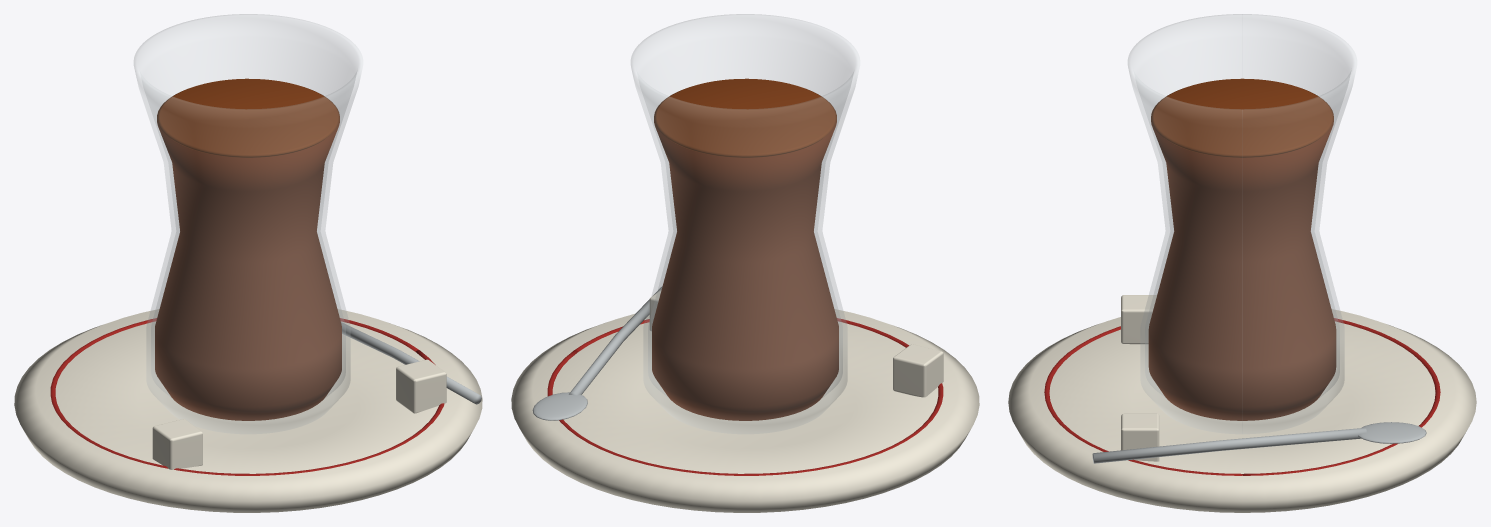
The model's file is ince_belli_tea.glb.
3 renders of one model, left to right at view 1: azimuth 30°, elevation 25°; view 2: azimuth 150°, elevation 25°; view 3: azimuth 270°, elevation 25°, orthographic.
Visible parts, largest first — view 1: TeaGlass, TeaSaucer, TeaLiquid, TeaMeniscus, SaucerRedLine, SugarCube.001, SugarCube, TeaspoonHandle; view 2: TeaGlass, TeaSaucer, TeaLiquid, TeaMeniscus, SugarCube, SaucerRedLine, TeaspoonHandle, TeaspoonBowl; view 3: TeaGlass, TeaSaucer, TeaLiquid, TeaMeniscus, TeaspoonHandle, SaucerRedLine, SugarCube, SugarCube.001, TeaspoonBowl.
Boxes of the visible parts, left/top/right/bottom form: TeaGlass: left=134, top=14, right=362, bottom=433; TeaSaucer: left=14, top=309, right=482, bottom=512; TeaLiquid: left=155, top=120, right=341, bottom=420; TeaMeniscus: left=157, top=78, right=339, bottom=157; SaucerRedLine: left=50, top=318, right=444, bottom=475; SugarCube.001: left=396, top=359, right=446, bottom=413; SugarCube: left=152, top=419, right=202, bottom=469; TeaspoonHandle: left=341, top=322, right=481, bottom=404; TeaGlass: left=631, top=14, right=859, bottom=433; TeaSaucer: left=511, top=309, right=979, bottom=512; TeaLiquid: left=652, top=120, right=838, bottom=420; TeaMeniscus: left=654, top=78, right=836, bottom=157; SugarCube: left=893, top=344, right=943, bottom=397; SaucerRedLine: left=547, top=318, right=943, bottom=475; TeaspoonHandle: left=569, top=286, right=662, bottom=395; TeaspoonBowl: left=532, top=392, right=587, bottom=420; TeaGlass: left=1128, top=14, right=1356, bottom=433; TeaSaucer: left=1008, top=309, right=1476, bottom=512; TeaLiquid: left=1148, top=120, right=1336, bottom=420; TeaMeniscus: left=1151, top=78, right=1333, bottom=157; TeaspoonHandle: left=1092, top=427, right=1366, bottom=463; SaucerRedLine: left=1044, top=318, right=1440, bottom=475; SugarCube: left=1121, top=295, right=1156, bottom=344; SugarCube.001: left=1121, top=413, right=1159, bottom=461; TeaspoonBowl: left=1358, top=422, right=1426, bottom=443.
Bounding box in the file's own units: 0.11 × 0.095 × 0.11.
